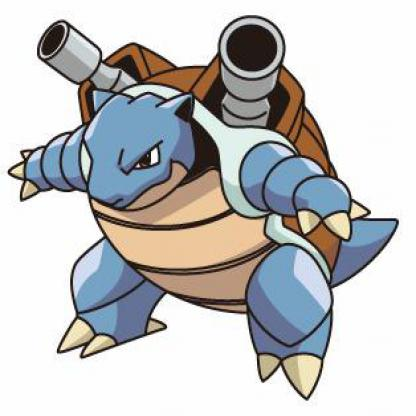Blastoise: (3, 8, 411, 402)
